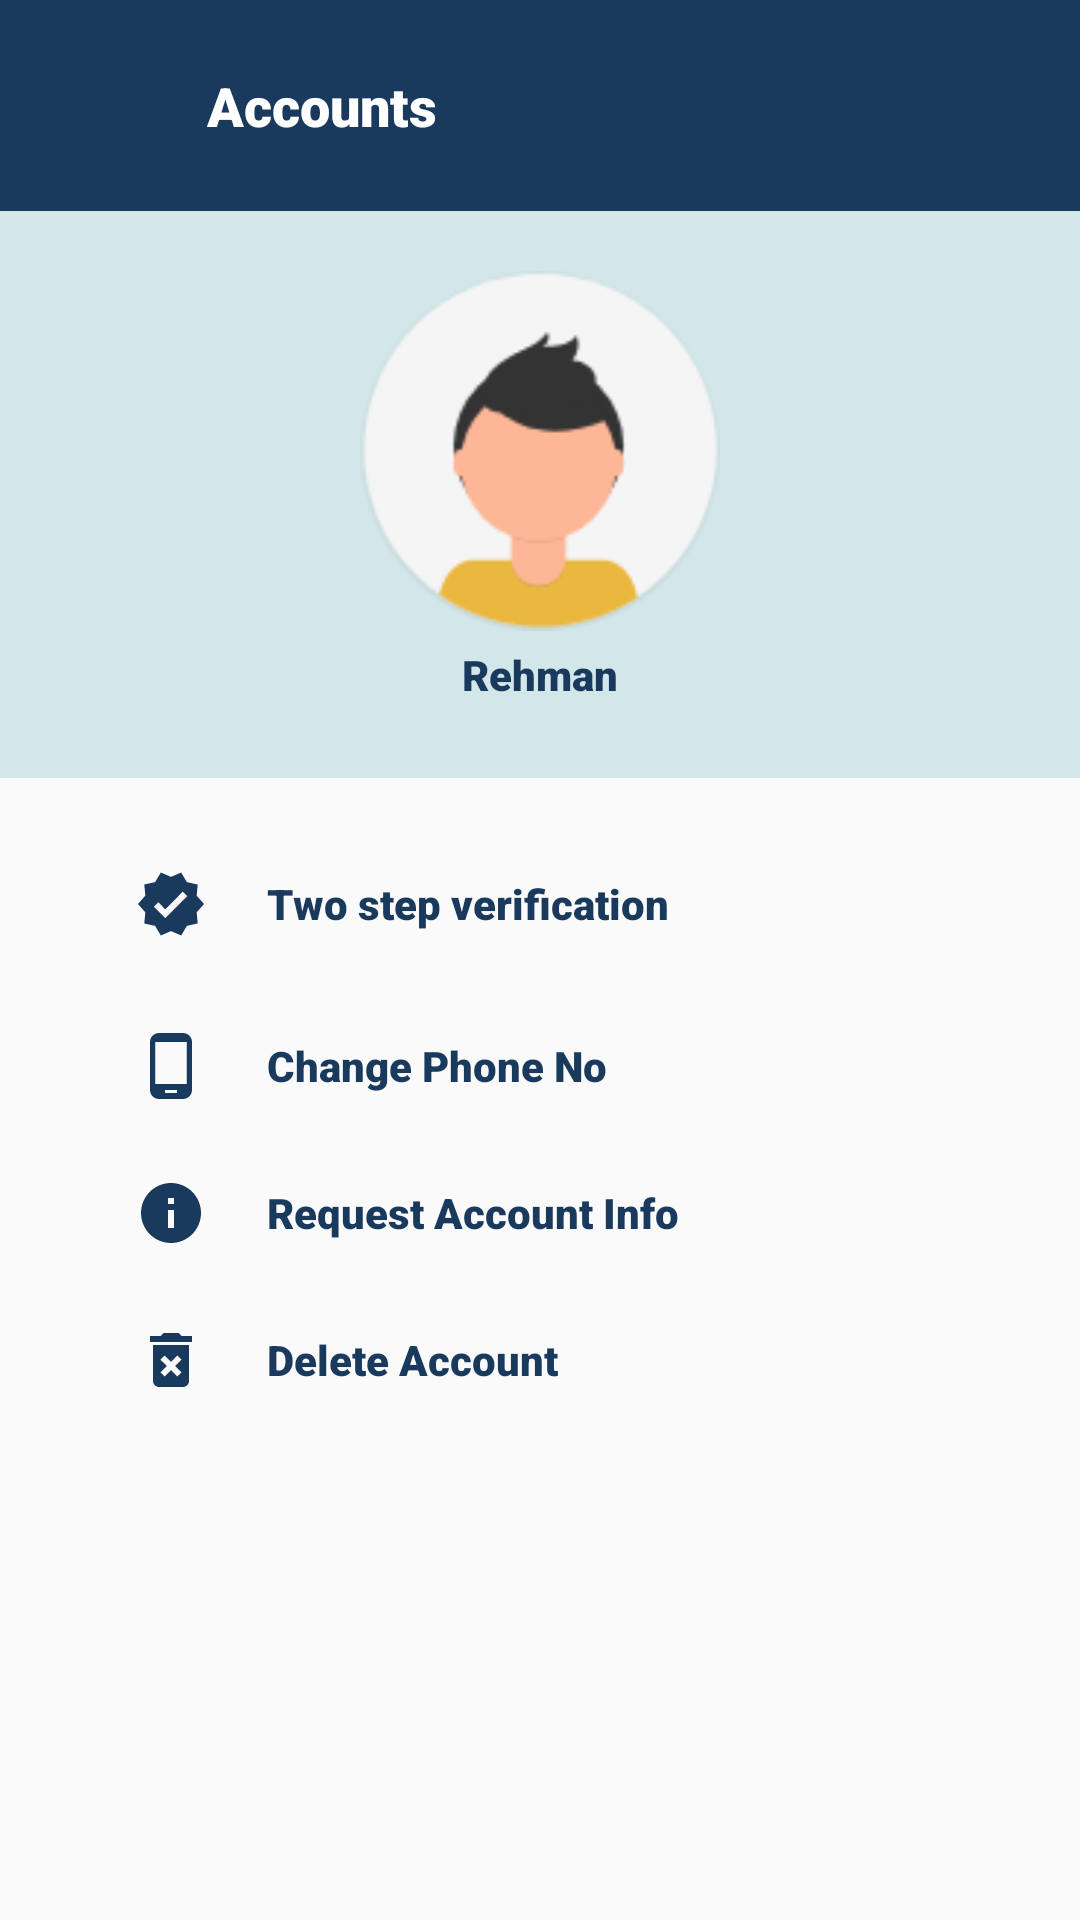

Screen size 1080*1920. Icon name, then its box in pixels as (left=x1, top=y1, right=x2, bottom=y2):
verified: (left=138, top=872, right=204, bottom=936)
